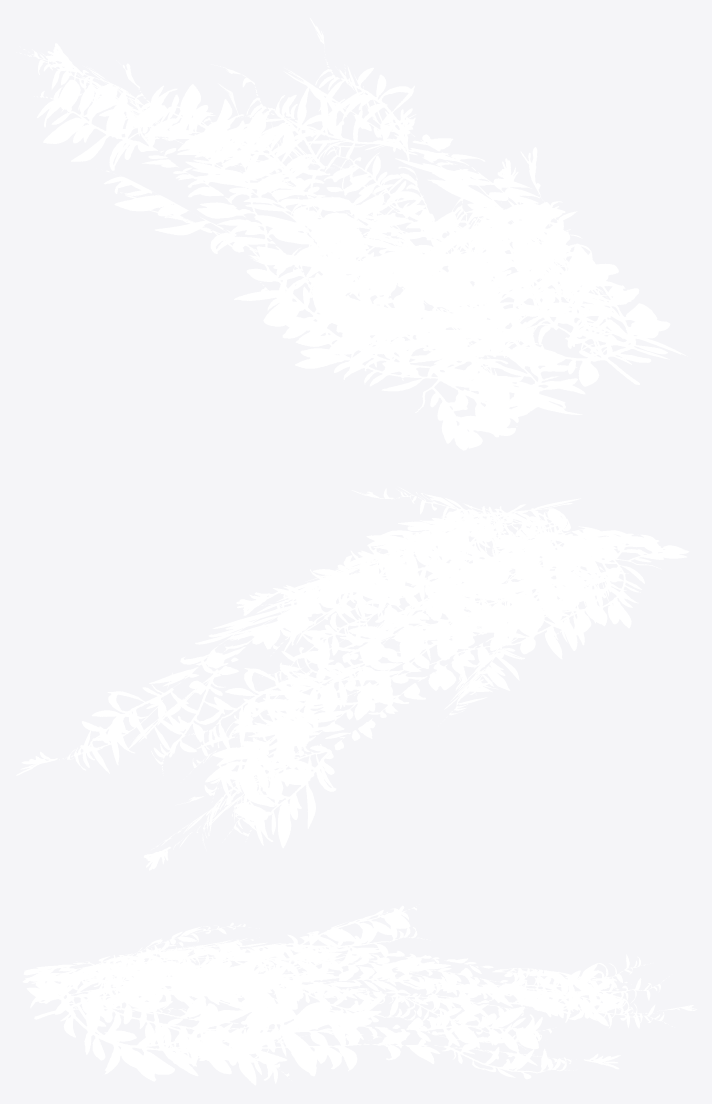
3 views of the same model, one above another, from view 1: azimuth 30°, elevation 25°; view 2: azimuth 150°, elevation 25°; view 3: azimuth 270°, elevation 25° (orthographic). The views are drawn at different scales.
Visible parts, largest first — view 1: SM_GF_Climbing_A_02_LOD0; view 2: SM_GF_Climbing_A_02_LOD0; view 3: SM_GF_Climbing_A_02_LOD0.
Boxes of the visible parts, left/top/right/bottom form: SM_GF_Climbing_A_02_LOD0: left=16, top=18, right=687, bottom=450; SM_GF_Climbing_A_02_LOD0: left=16, top=487, right=689, bottom=870; SM_GF_Climbing_A_02_LOD0: left=22, top=904, right=696, bottom=1085.
Size of the model in its own units: 1.55 by 0.6707 by 3.52.
1 material, 1 textured.
